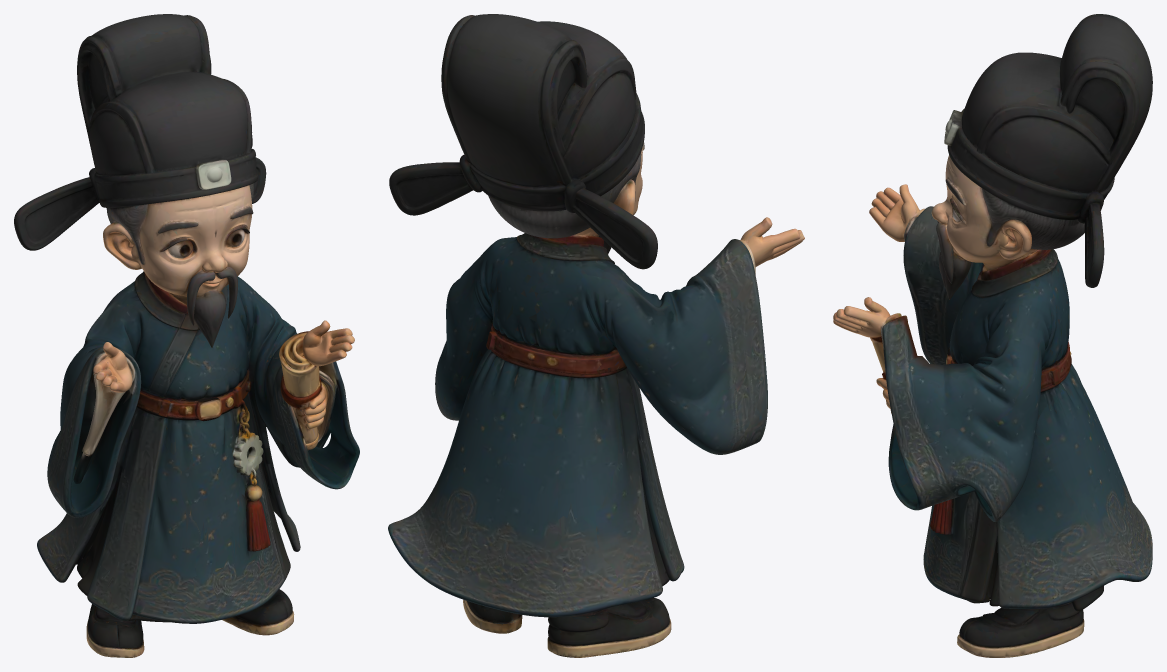
Rendered from guide.glb.
3 views of the same model, side by side, from view 1: azimuth 30°, elevation 25°; view 2: azimuth 150°, elevation 25°; view 3: azimuth 270°, elevation 25° (orthographic). The views are drawn at different scales.
Visible parts, largest first — view 1: node_0; view 2: node_0; view 3: node_0.
Boxes of the visible parts, left/top/right/bottom form: node_0: left=14, top=14, right=359, bottom=657; node_0: left=388, top=14, right=804, bottom=657; node_0: left=833, top=14, right=1152, bottom=657.
Size of the model in its own units: 0.5816 by 1.13 by 0.5569.
Materials: 1 (1 with a texture image).
